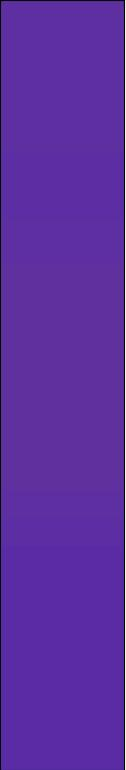safe: (9, 10, 119, 752)
